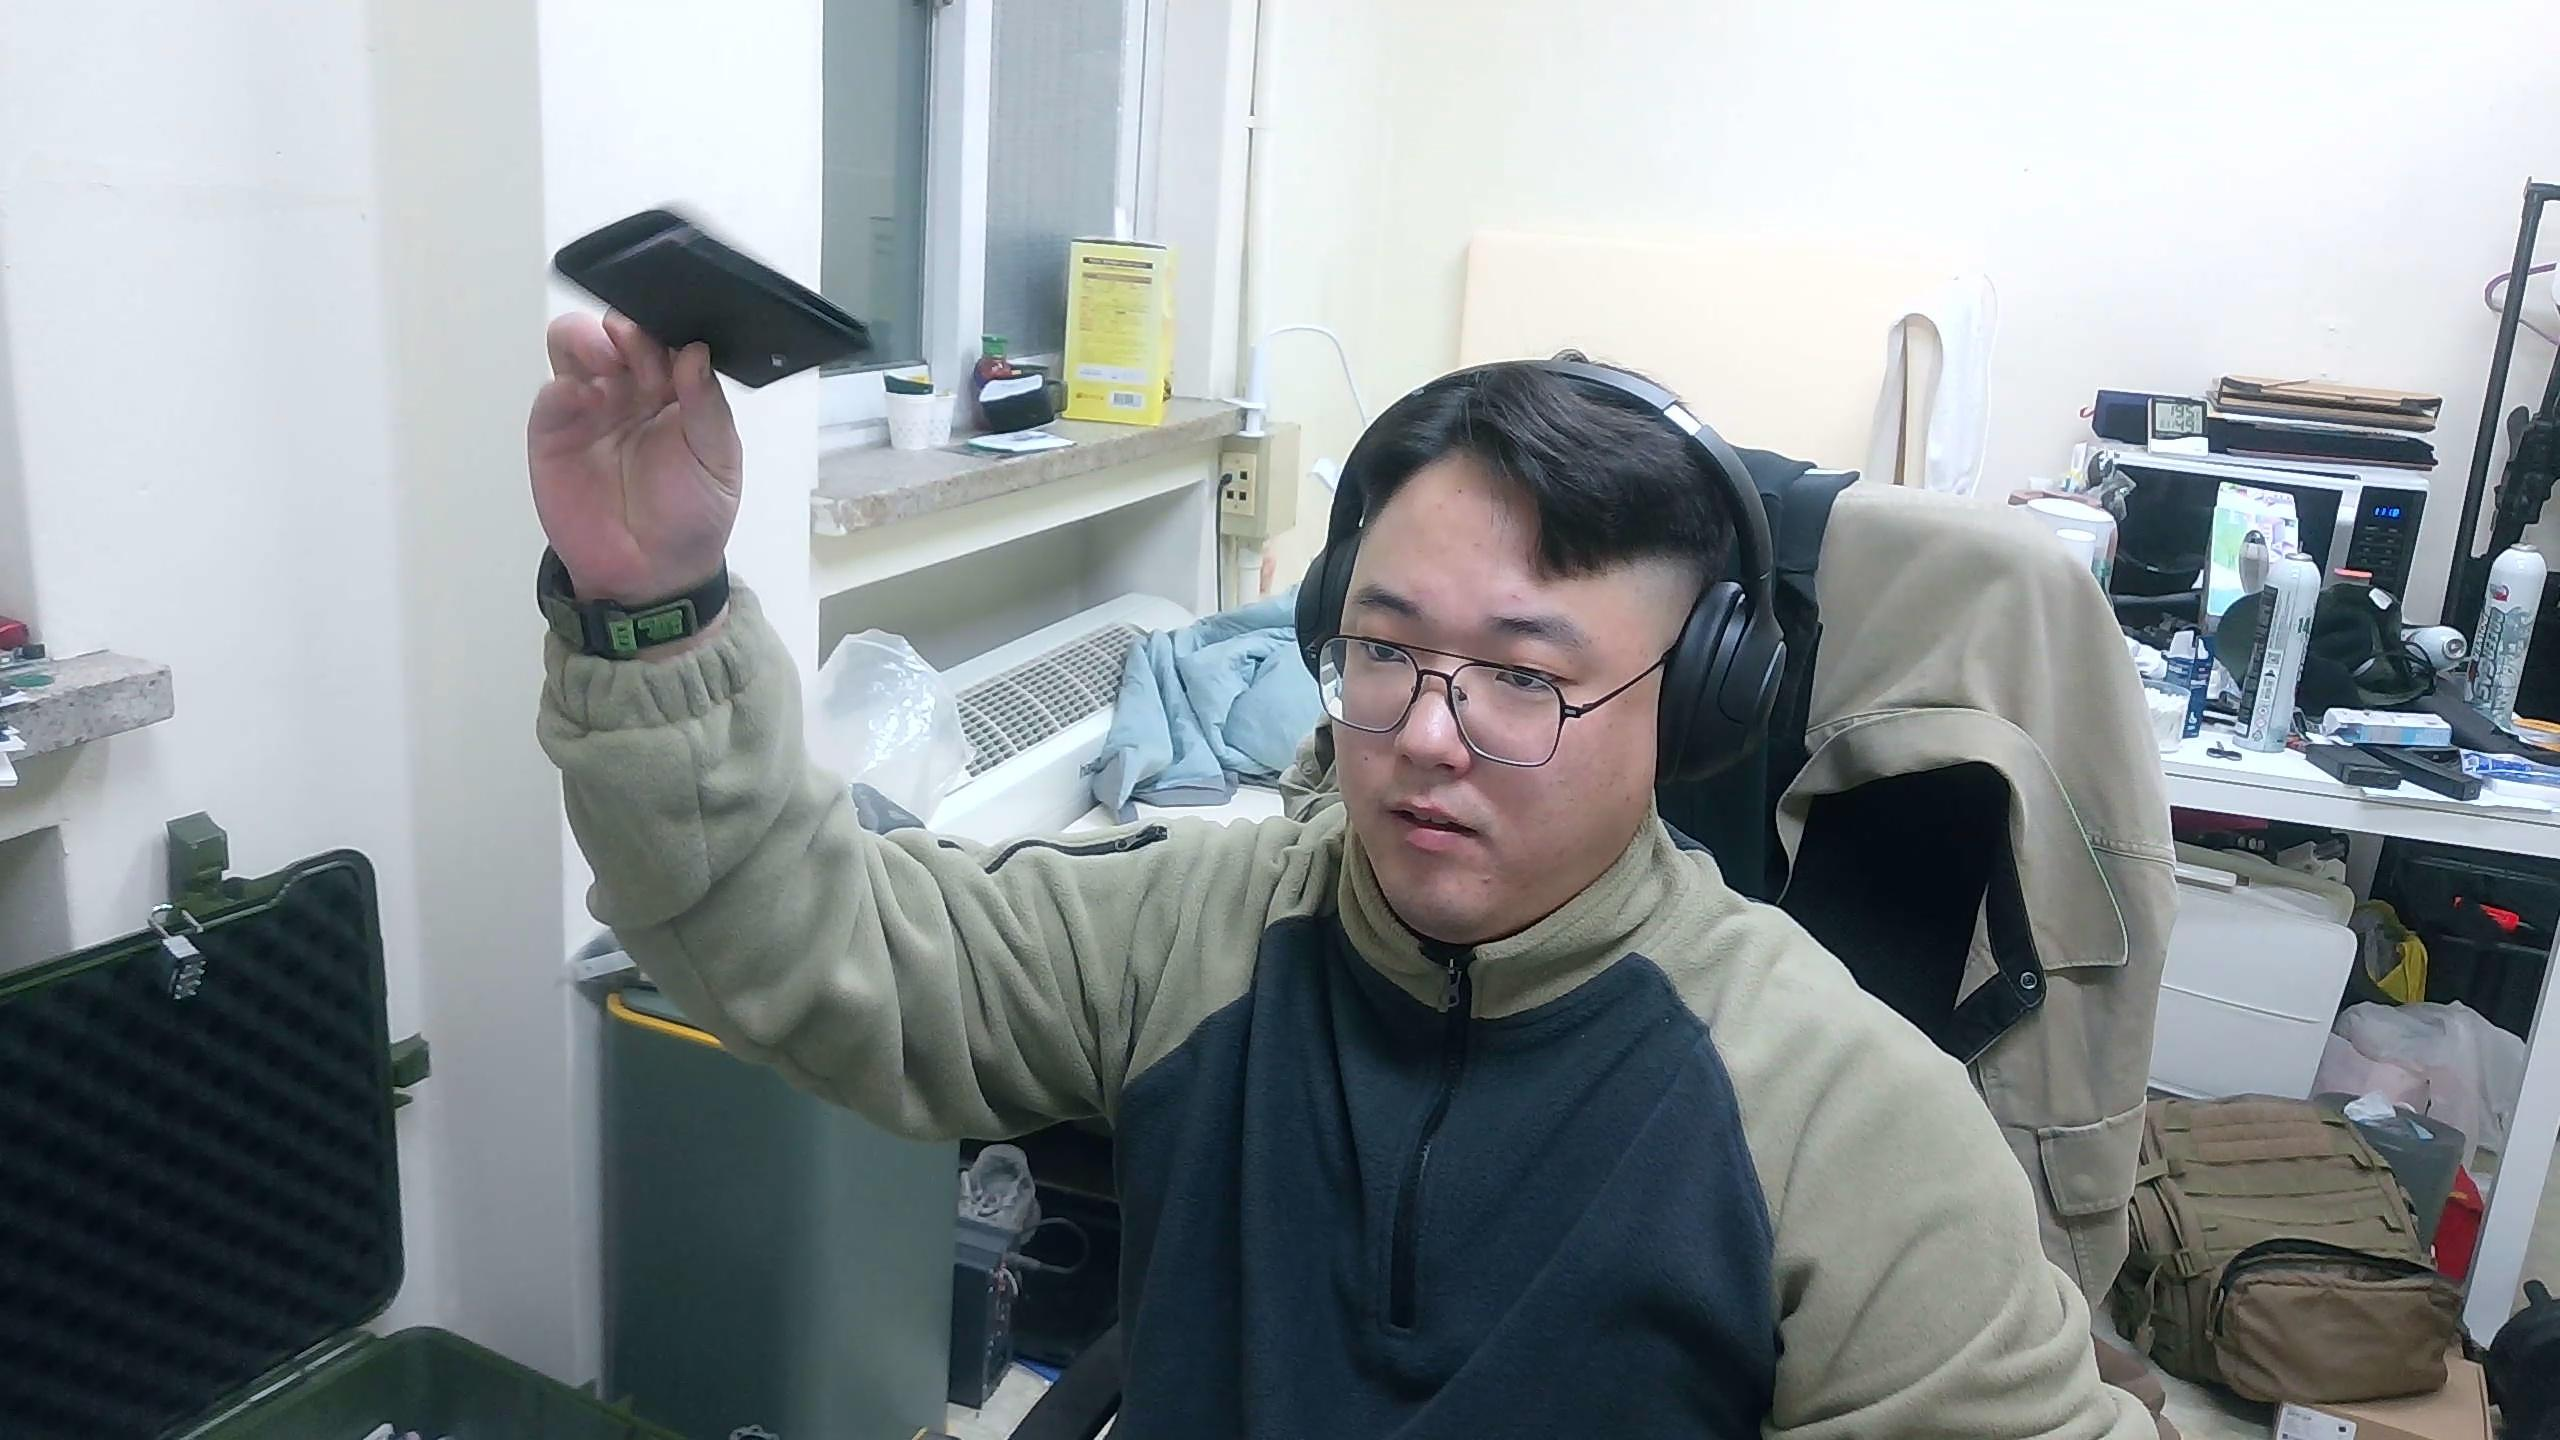Wallet: (552, 204, 874, 390)
